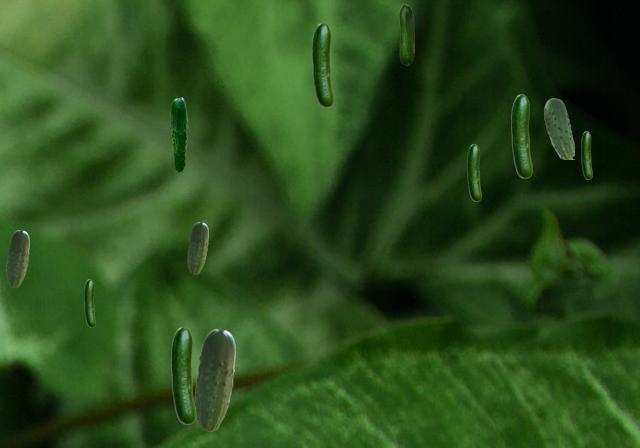cucumber: (194, 329, 234, 430), (171, 327, 194, 423), (544, 98, 573, 158), (312, 23, 332, 106), (511, 94, 531, 177), (170, 97, 187, 171), (6, 230, 28, 286), (187, 222, 207, 273), (399, 4, 413, 64), (467, 144, 480, 200), (84, 279, 94, 326), (581, 131, 591, 178)
